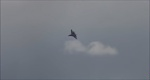maybay_muctieu: (69, 30, 77, 40)
